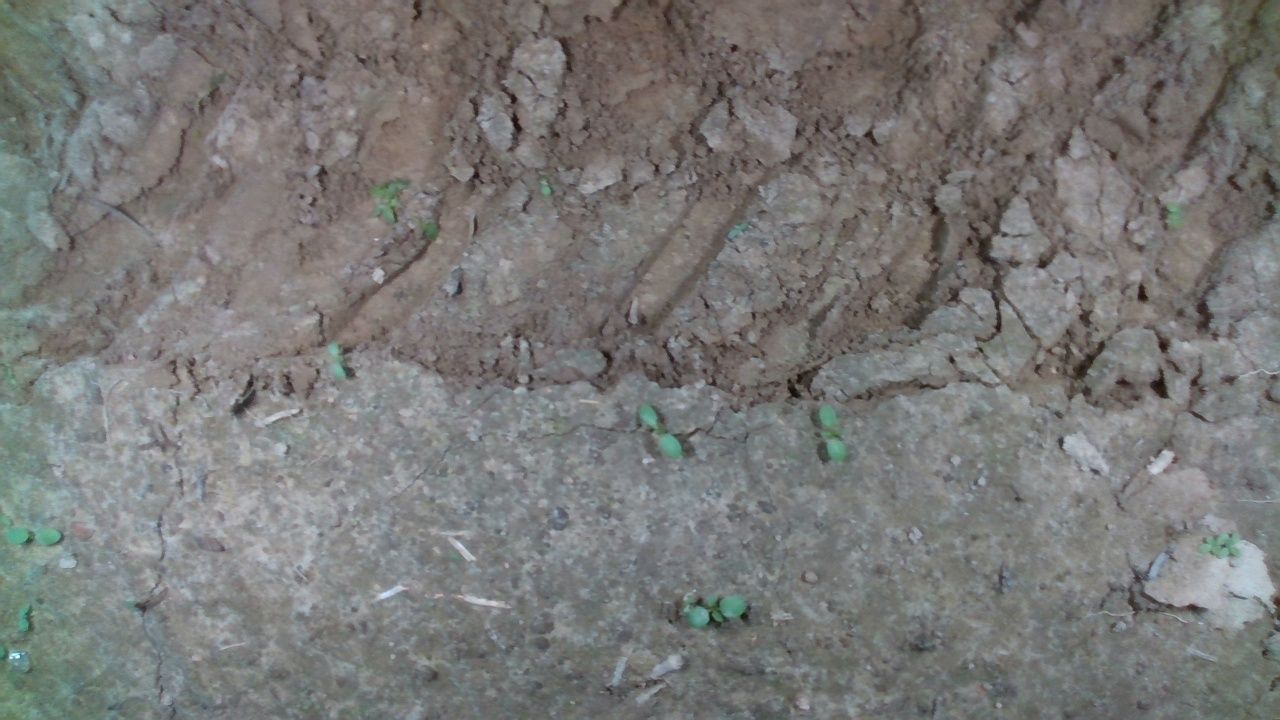weed: (637, 401, 684, 459), (684, 591, 749, 629), (817, 401, 848, 462), (3, 523, 64, 546), (325, 337, 348, 385), (13, 600, 32, 633)
